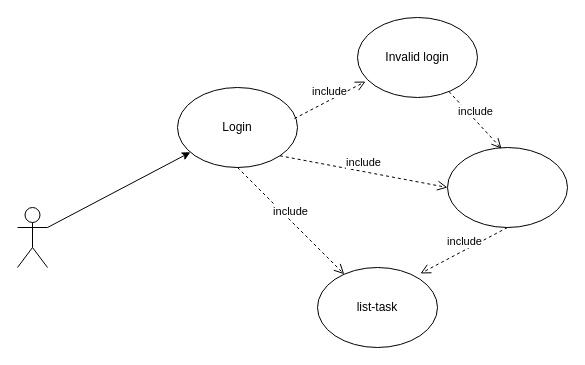
Image size: 585x365. Some labels were removed from this diagram. Here are the shapes that lost their labels. From the top down, the centre of each, then its label:
(507,187): Register
(32,237): Actor
